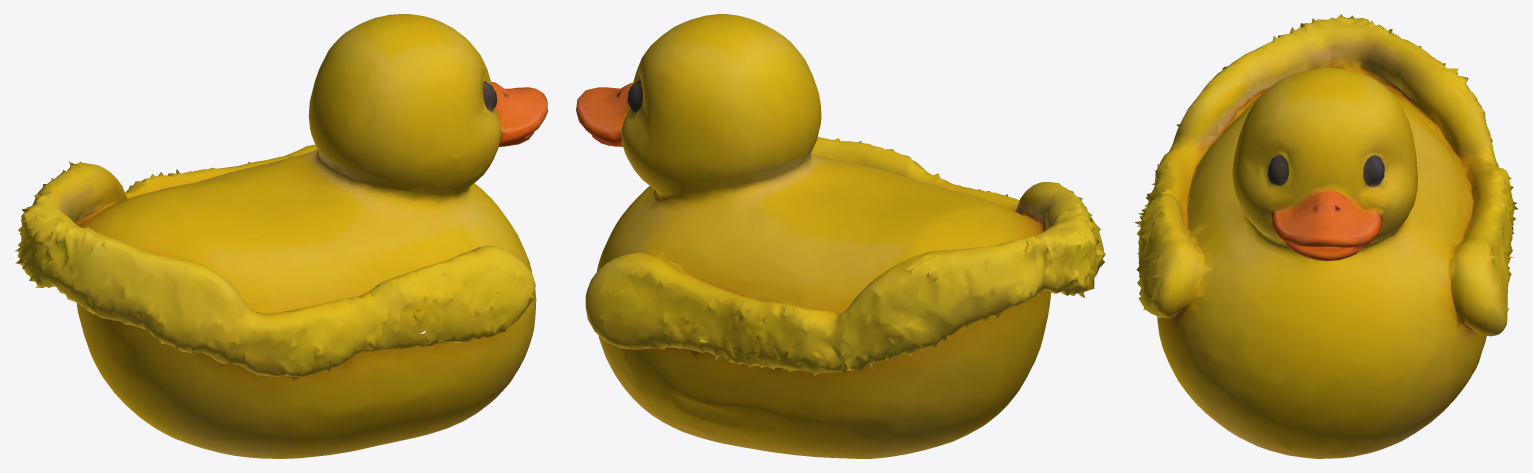
Rendered from duckling.glb.
The picture shows the model from 3 angles, left to right: view 1: azimuth 30°, elevation 25°; view 2: azimuth 150°, elevation 25°; view 3: azimuth 270°, elevation 25°; orthographic projection. The views are drawn at different scales.
Visible parts, largest first — view 1: tripo_node_7961b222-5973-4a0f-8e24-4976f607b772; view 2: tripo_node_7961b222-5973-4a0f-8e24-4976f607b772; view 3: tripo_node_7961b222-5973-4a0f-8e24-4976f607b772.
Boxes of the visible parts, x1,y1,x2,y2 form: tripo_node_7961b222-5973-4a0f-8e24-4976f607b772: (14,14,547,458); tripo_node_7961b222-5973-4a0f-8e24-4976f607b772: (576,14,1105,458); tripo_node_7961b222-5973-4a0f-8e24-4976f607b772: (1135,14,1518,458).
Size of the model in its own units: 1 by 0.7129 by 0.6729.
Materials: 1 (1 with a texture image).
